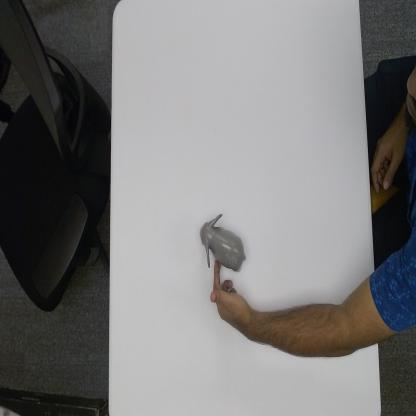Arm: (251, 277, 378, 361)
Elephant: (199, 213, 246, 269)
Hand: (209, 261, 247, 338)
